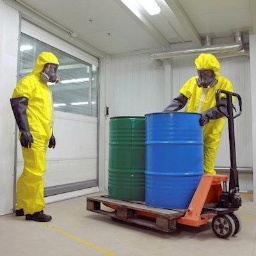person: (10, 47, 65, 226)
